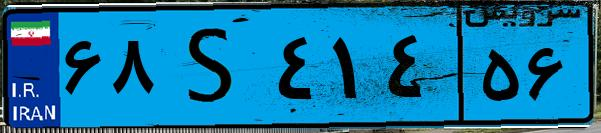1: (330, 28, 385, 110)
4: (270, 28, 330, 110), (385, 28, 445, 110)
5: (475, 38, 525, 113)
6: (57, 26, 110, 100), (525, 38, 570, 115)
8: (110, 28, 158, 98)
S: (158, 12, 270, 120)
